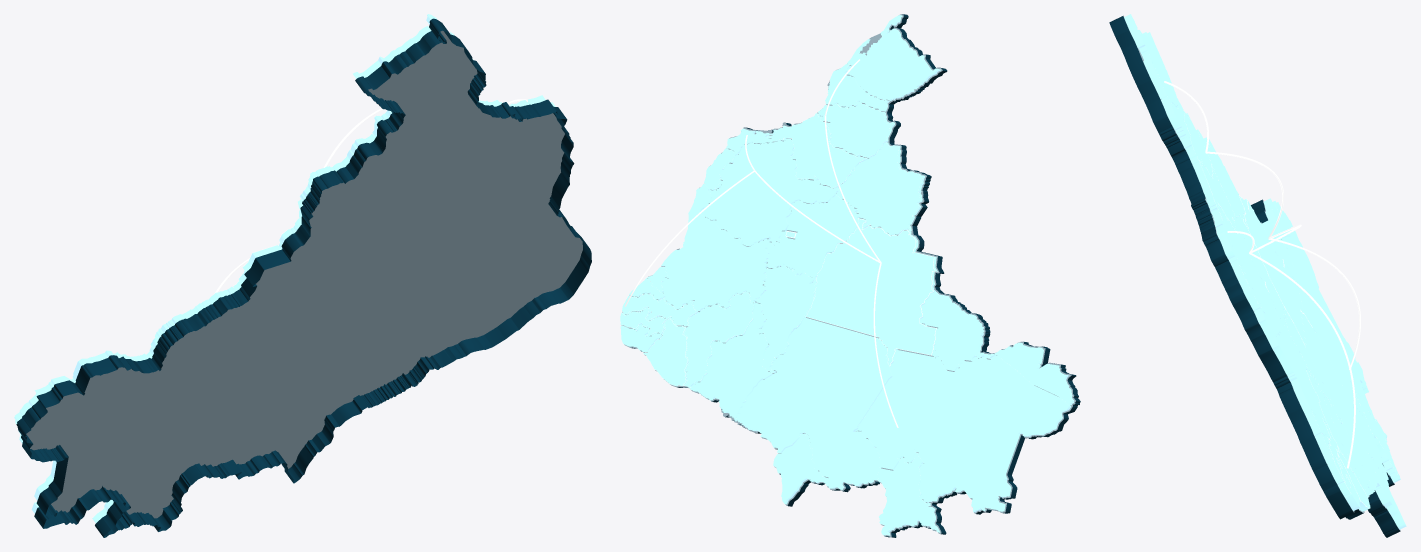
File: mapa-brasil.glb
The picture shows the model from 3 angles, left to right: view 1: azimuth 30°, elevation 25°; view 2: azimuth 150°, elevation 25°; view 3: azimuth 270°, elevation 25°; orthographic projection. The views are drawn at different scales.
Visible parts, largest first — view 1: MAPA_Base, UF_AC, UF_RO, UF_MS, UF_RS; view 2: UF_AM, UF_PA, UF_MT, UF_MG, UF_BA, MAPA_Base, UF_MS, UF_GO, UF_MA, UF_RS, UF_TO, UF_SP (+13 smaller); view 3: MAPA_Base, UF_AM, UF_PA, UF_BA, UF_MT, UF_MG, UF_RS, UF_SP, UF_MS, UF_MA, UF_RR, UF_GO (+14 smaller).
Part boxes in pixels (x1,y1,x2,y2): MAPA_Base: (16, 18, 591, 537); UF_AC: (14, 350, 131, 421); UF_RO: (130, 286, 236, 361); UF_MS: (295, 134, 375, 228); UF_RS: (353, 14, 454, 78); UF_AM: (855, 350, 1071, 512); UF_PA: (736, 317, 892, 489); UF_MT: (805, 218, 937, 366); UF_MG: (701, 138, 838, 245); UF_BA: (661, 183, 770, 311); MAPA_Base: (621, 14, 1080, 537); UF_MS: (837, 142, 925, 235); UF_GO: (766, 194, 859, 282); UF_MA: (691, 303, 773, 421); UF_RS: (845, 15, 940, 100); UF_TO: (755, 265, 817, 373); UF_SP: (766, 113, 868, 188); MAPA_Base: (1109, 15, 1400, 537); UF_AM: (1281, 230, 1374, 422); UF_PA: (1300, 312, 1388, 490); UF_BA: (1254, 306, 1330, 439); UF_MT: (1239, 195, 1312, 346); UF_MG: (1218, 204, 1282, 336); UF_RS: (1124, 14, 1178, 106); UF_SP: (1192, 161, 1236, 233); UF_MS: (1196, 129, 1247, 226); UF_MA: (1309, 371, 1374, 496); UF_RR: (1350, 382, 1400, 482); UF_GO: (1236, 216, 1288, 332).
Size of what is drawn, in the model's own units: 2 by 1.88 by 0.9529.
